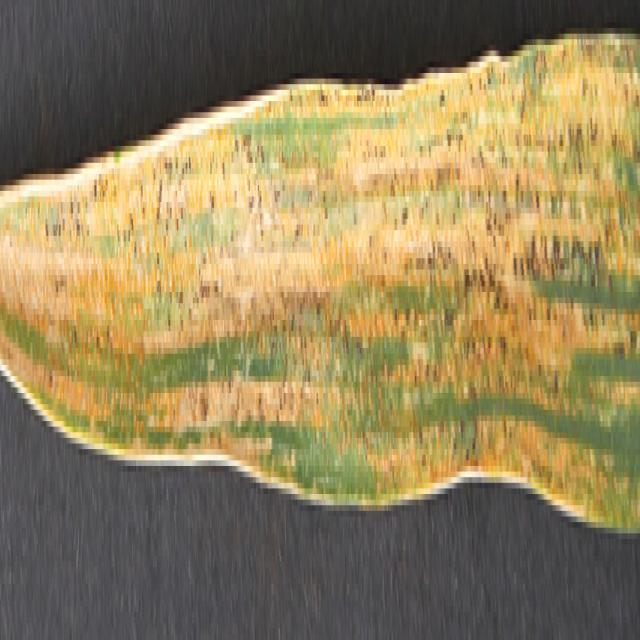leaf rust: (1, 17, 635, 511)
